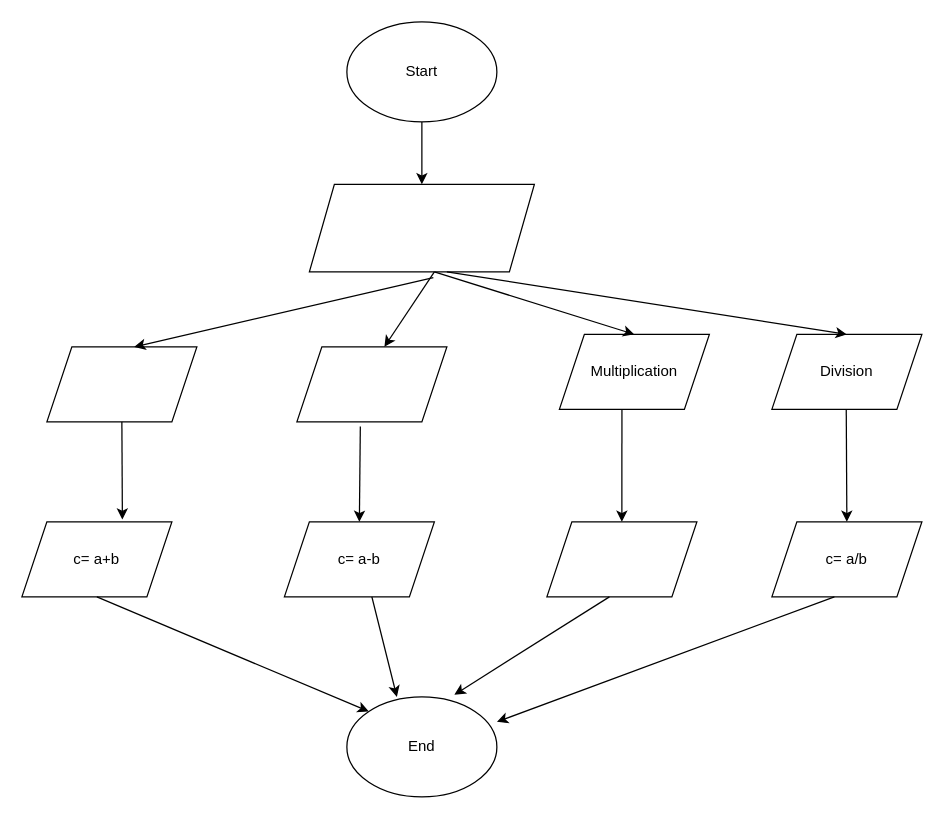
The diagram is 944 pixels wide and 819 high, and some of its shapes have lost their labels. The shapes that lost their labels are listed below. From the top down, each one's centre as x and y in pixels, then its label:
At point (421, 227): "Declare variable a,b,c".
At point (121, 384): "Summation".
At point (371, 384): "Subtraction".
At point (621, 559): "c= a*b".
